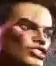kevin: (3, 0, 54, 65)
